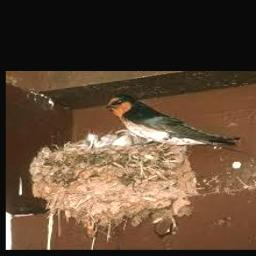Swallow: (106, 95, 240, 147)
